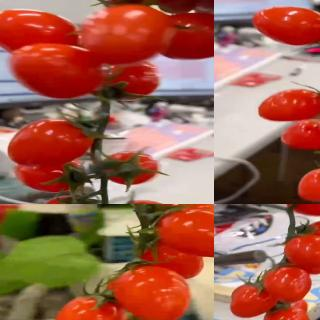tomato: (77, 5, 171, 68), (7, 41, 106, 98), (115, 262, 195, 320), (9, 117, 95, 168), (0, 7, 78, 53), (130, 236, 208, 278), (155, 210, 214, 258), (12, 157, 90, 193), (96, 56, 161, 99), (252, 4, 320, 45), (163, 12, 214, 59), (256, 87, 320, 122), (105, 152, 161, 186), (264, 264, 314, 302), (55, 294, 128, 320), (230, 282, 278, 318), (152, 204, 214, 229), (282, 232, 320, 270), (280, 118, 320, 151), (265, 299, 314, 320), (92, 0, 186, 10), (296, 167, 320, 204), (301, 220, 320, 249), (40, 195, 101, 204), (282, 204, 320, 218)
